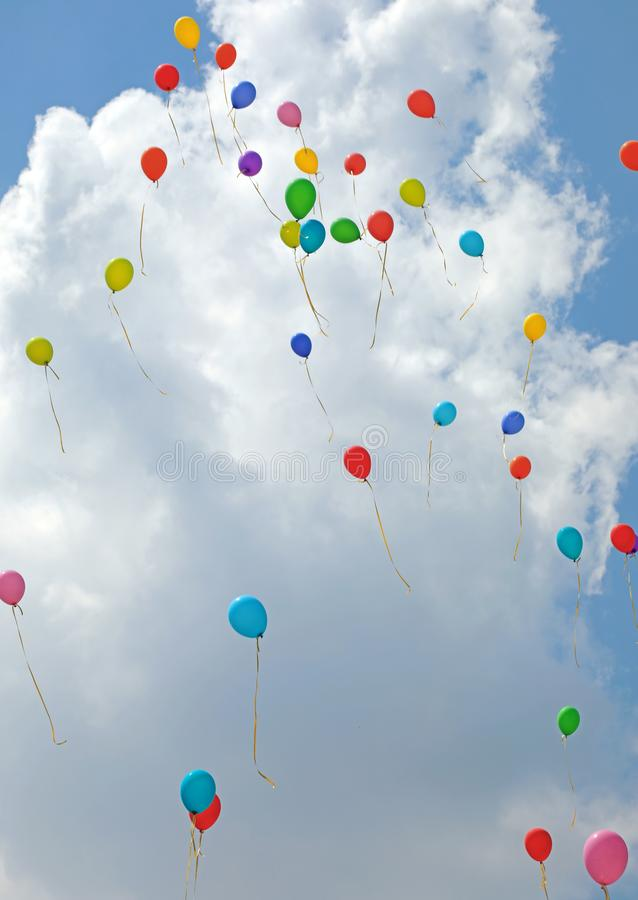Balloon: (584, 828, 629, 885), (227, 593, 267, 639), (180, 769, 217, 814), (284, 178, 316, 219), (524, 826, 552, 863), (104, 258, 134, 291), (555, 526, 583, 561), (173, 16, 201, 50), (343, 446, 371, 479), (140, 147, 168, 180), (406, 88, 436, 118), (1, 570, 26, 606), (367, 210, 394, 241), (300, 220, 325, 253), (25, 337, 53, 365), (399, 178, 426, 207), (153, 63, 180, 92), (330, 217, 360, 243), (610, 523, 635, 554), (276, 101, 302, 129), (231, 80, 256, 109), (522, 313, 547, 341), (558, 706, 581, 736), (237, 150, 263, 176), (459, 230, 484, 257), (295, 148, 319, 175), (619, 137, 638, 171), (215, 42, 237, 71), (433, 400, 457, 426), (500, 410, 524, 435), (343, 151, 366, 176), (509, 455, 531, 480), (291, 333, 313, 358), (280, 222, 299, 249)
